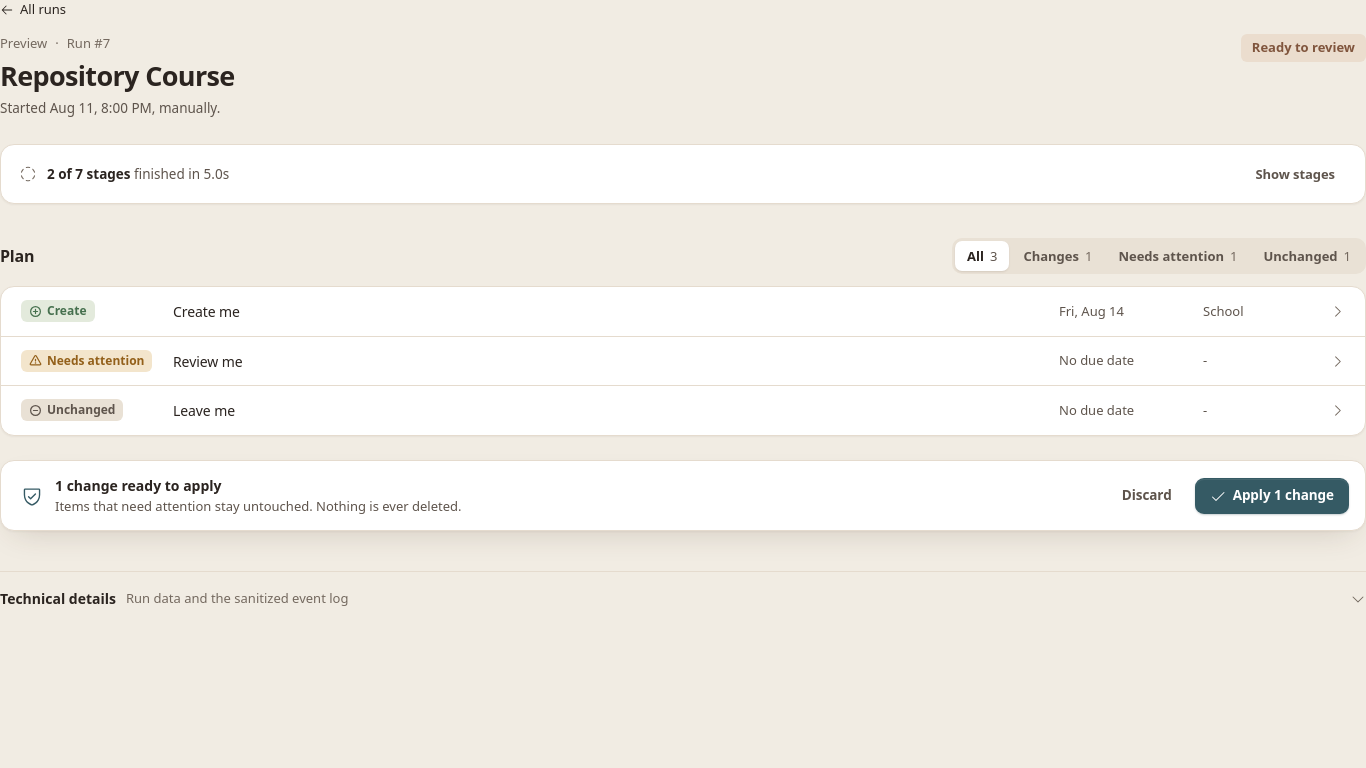
Scenario: operational pages › filters an immutable plan and requires explicit apply confirmation
expect the text "2 of 7 stages" is shown: met, box [47,165,130,183]
Step 1. Click the button "Changes 1" → {"x": 1058, "y": 256}, box [1011,241,1104,271]
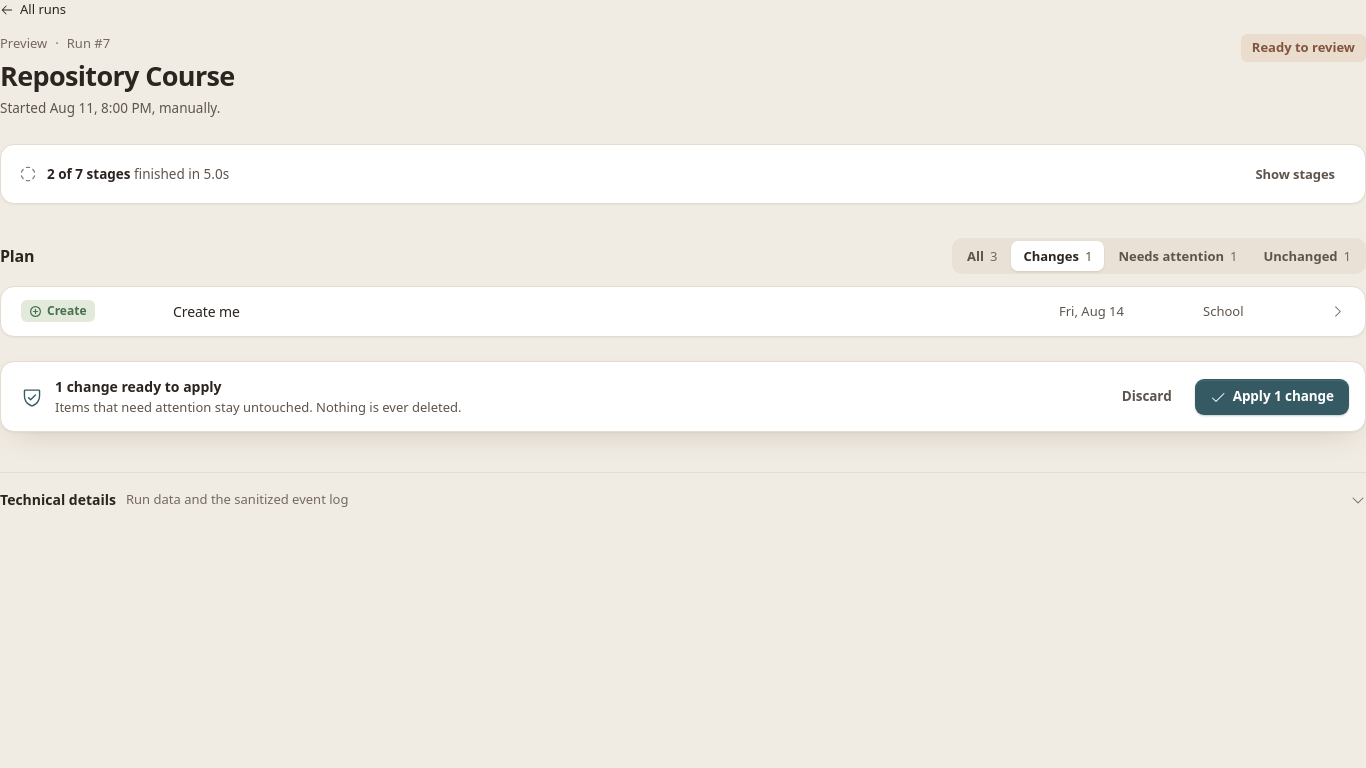
expect the text "Create me" is shown: met, box [173,302,240,321]
expect the button "Review me" is gone: met
Step 2. Click the button "Apply 1 change" → {"x": 1272, "y": 396}, box [1195,378,1349,414]
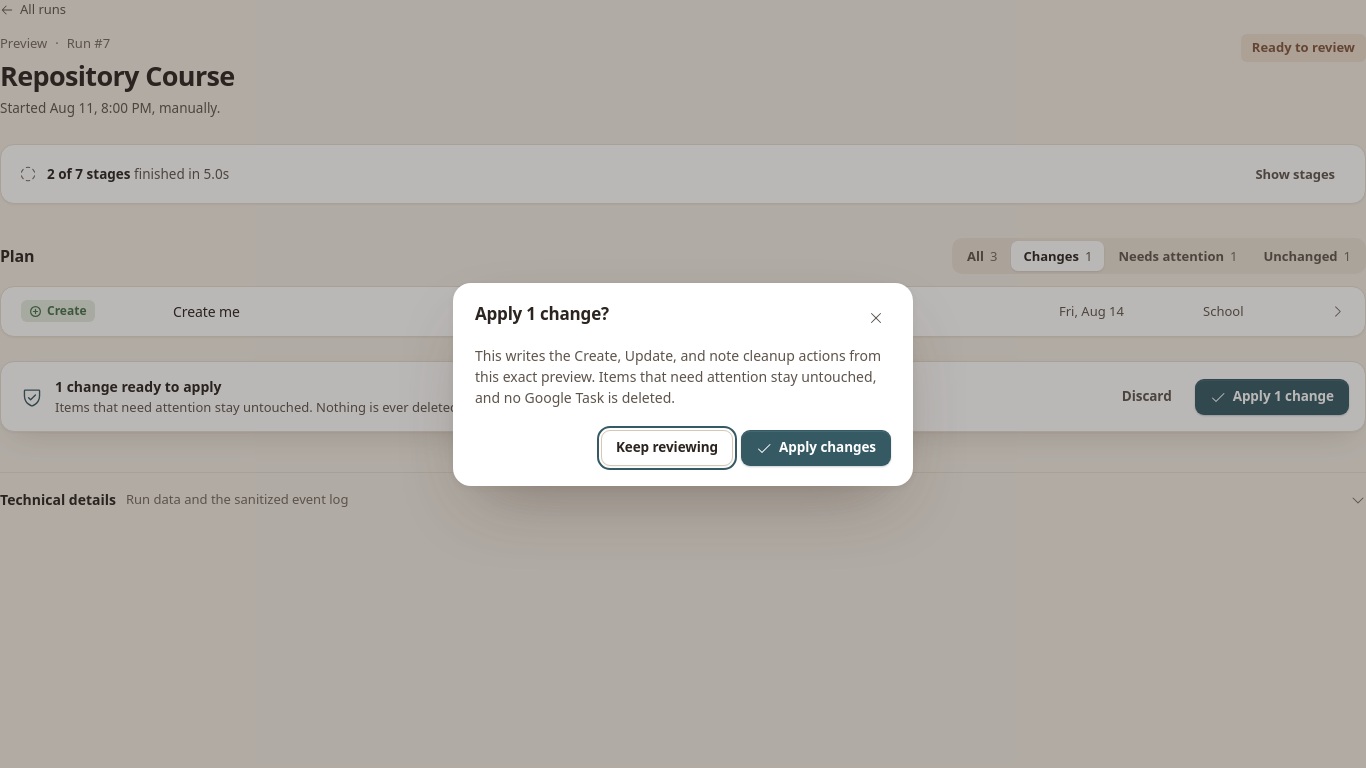
expect the dialog "Apply 1 change?" is shown: met, box [453,282,913,486]
expect the text "no Google Task is deleted" is shown: met, box [475,346,881,406]
